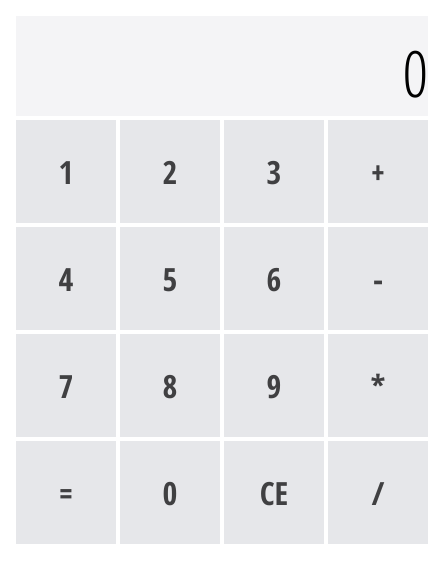
Scenario: testing keyboard › testing ce button
The width and height of the screenshot is (445, 561).
Click the button with test id "button-value-1" at (66, 172), box [16,120,116,223]
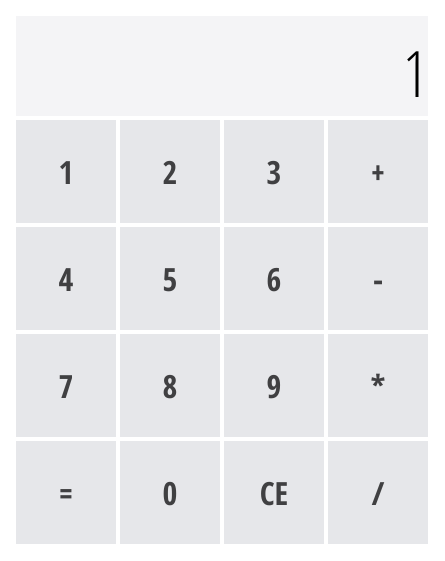
Check: the text with test id "display" reads "1", box [402,29,428,116]
Click the button with test id "clear" at (274, 492), box [224,441,324,544]
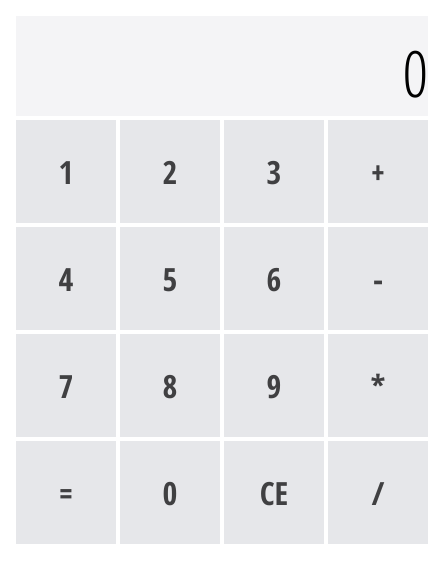
Check: the text with test id "display" reads "0", box [402,29,428,116]
